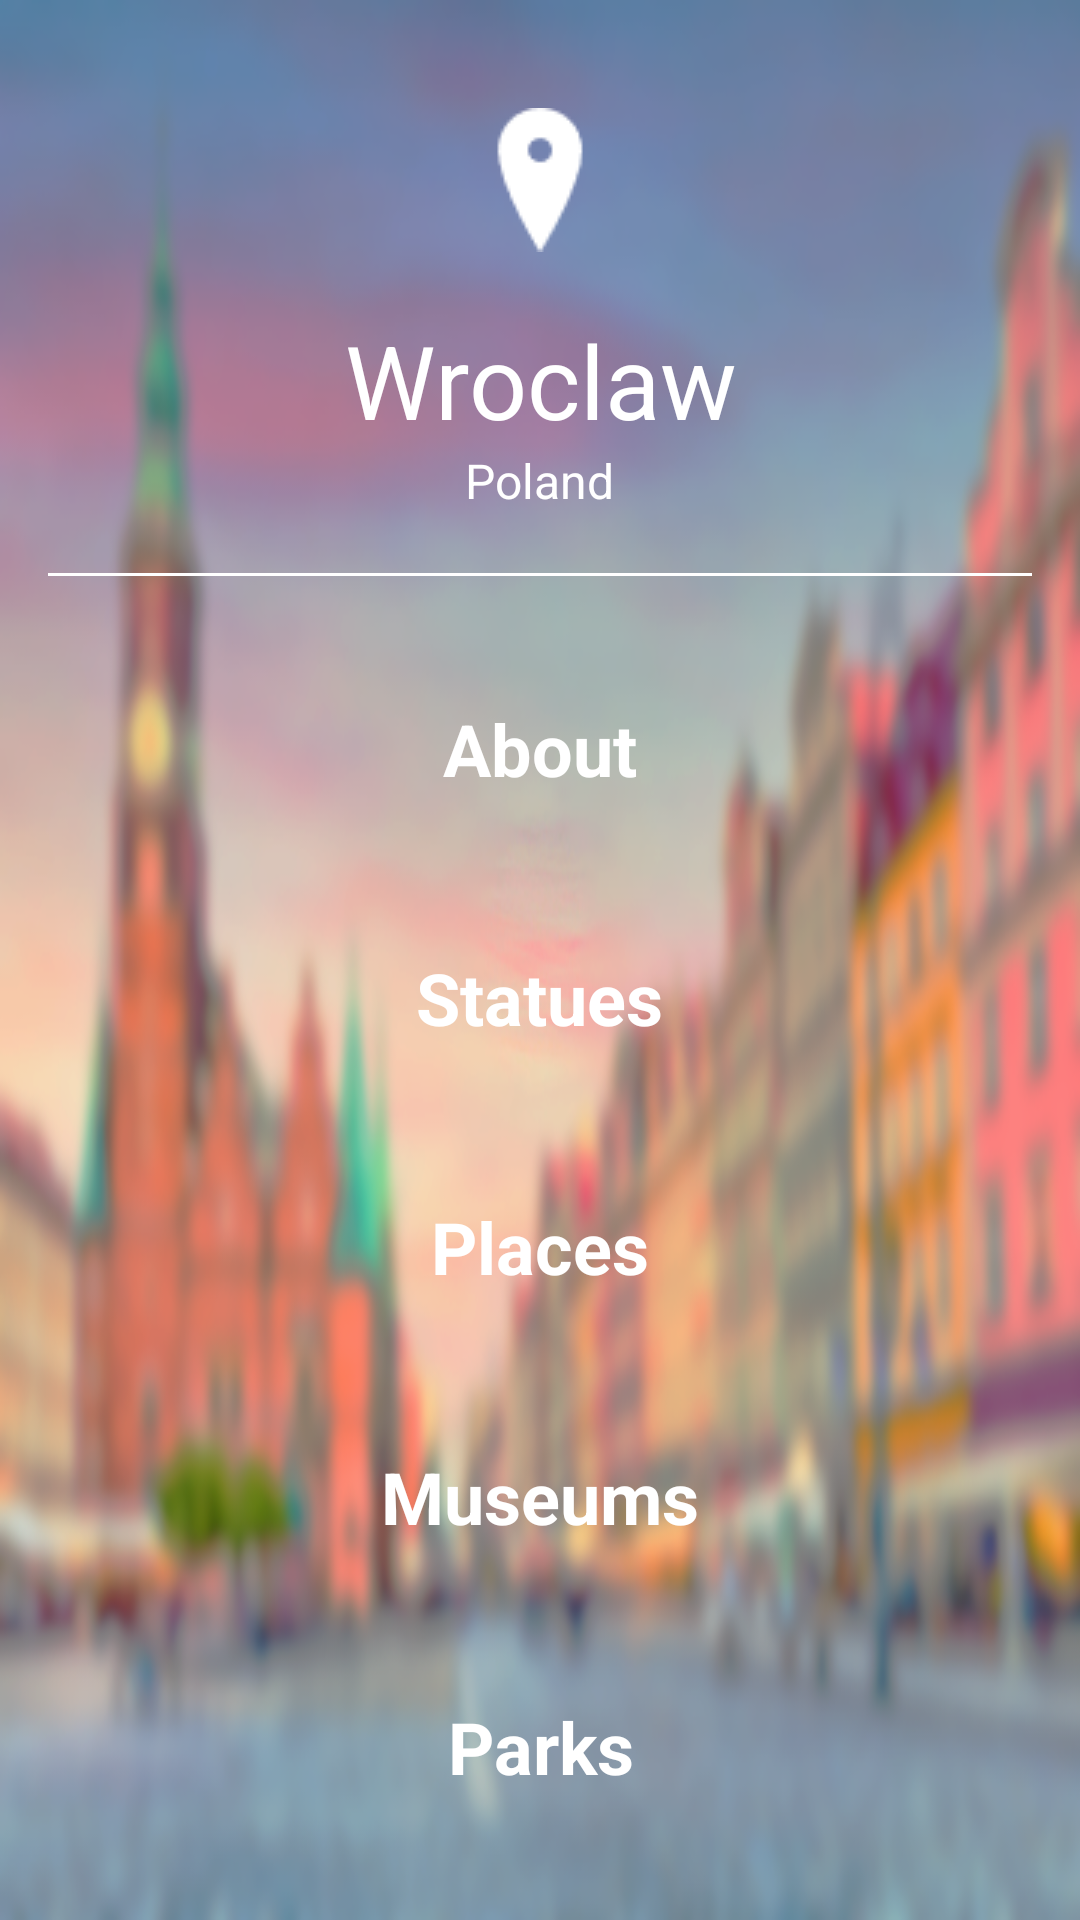

Named icons in this screenshot (1080 x 1920) and their bounding boxes, [left=x1, top=y1, right=x2, bottom=y2]:
local: [left=497, top=108, right=583, bottom=252]
